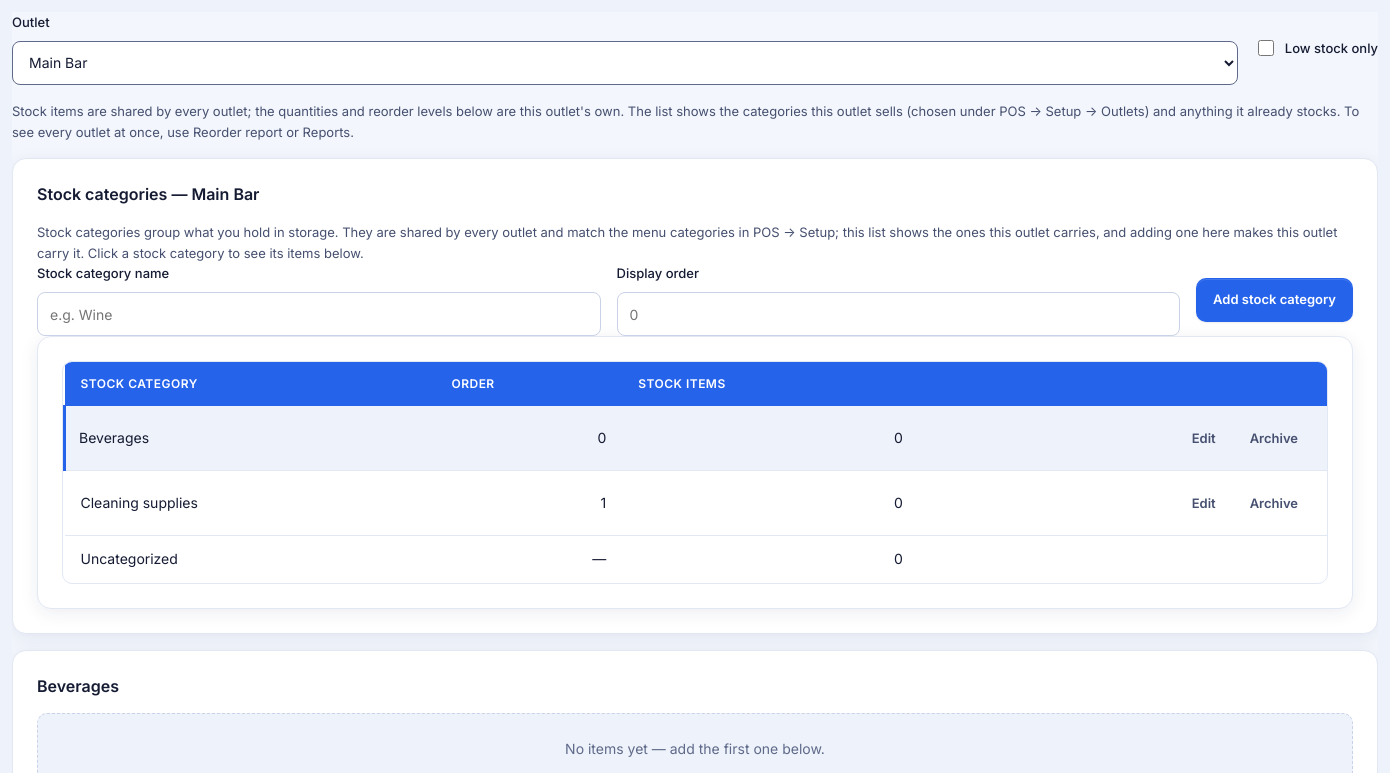
Scenario: <StockItemsTab> › single-category selection › clicking a different category in the list swaps which section shows below it
Expected: the heading "Beverages" is shown, x1=37 y1=676 x2=119 y2=696
What coordinates should you click on to do the following:
click the button "Cleaning supplies"
I would click on:
 (139, 503)
Its box is x1=80 y1=492 x2=198 y2=515.
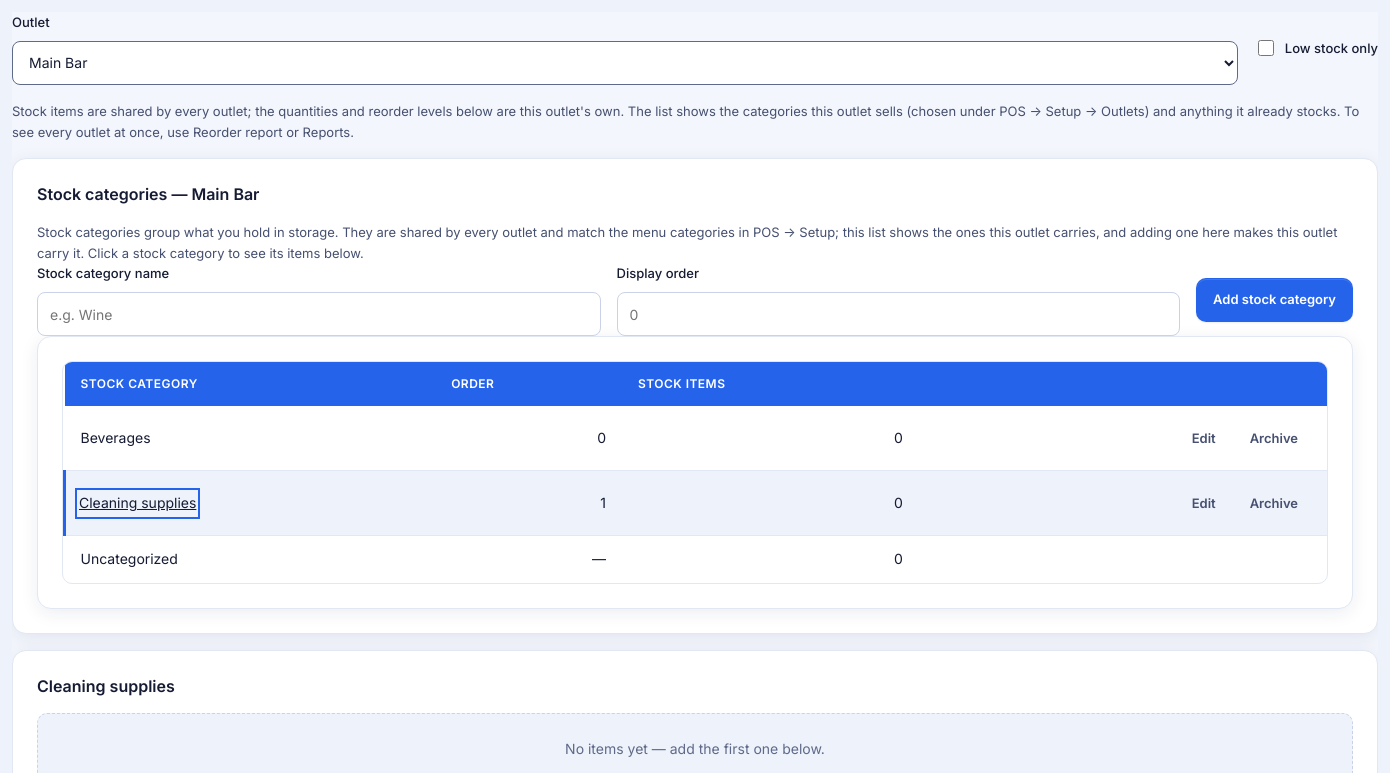
Result: the heading "Cleaning supplies" is shown at x1=37 y1=676 x2=175 y2=696
